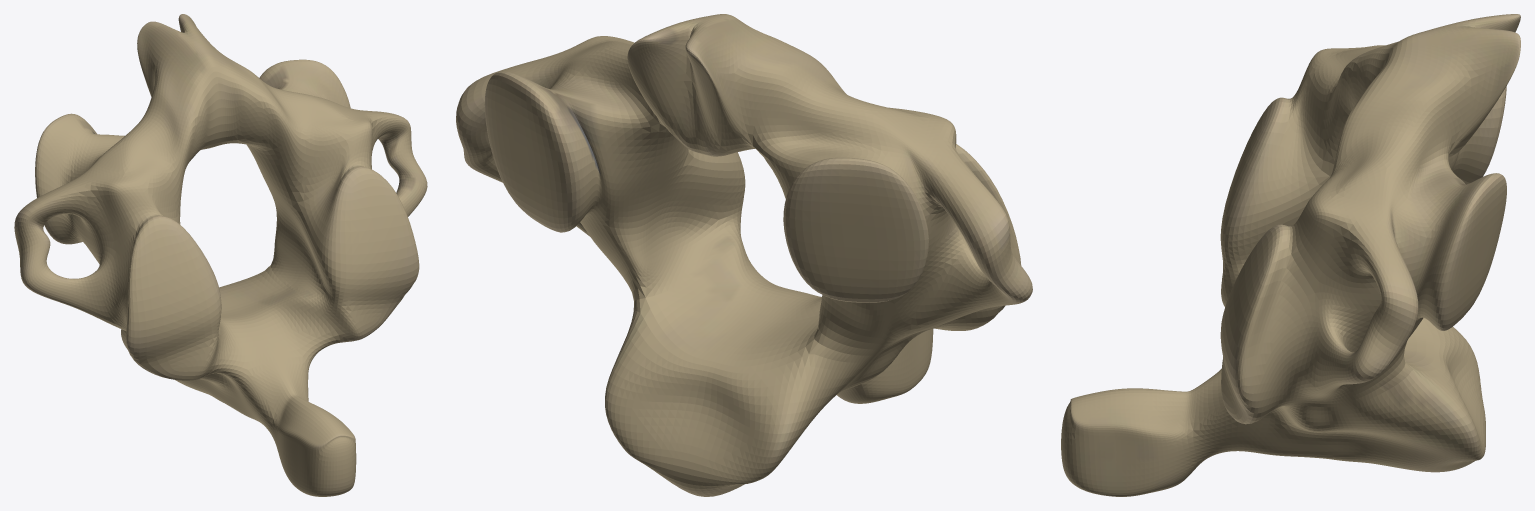
Rendered from 3DPX-001315.glb.
The picture shows the model from 3 angles, left to right: view 1: azimuth 30°, elevation 25°; view 2: azimuth 150°, elevation 25°; view 3: azimuth 270°, elevation 25°; orthographic projection. The views are drawn at different scales.
Visible parts, largest first — view 1: relative_path_2-pymesh; view 2: relative_path_2-pymesh; view 3: relative_path_2-pymesh.
Boxes of the visible parts, bbox=[...] form: relative_path_2-pymesh: bbox=[14, 14, 427, 496]; relative_path_2-pymesh: bbox=[456, 14, 1032, 496]; relative_path_2-pymesh: bbox=[1061, 14, 1520, 496].
Bounding box in the file's own units: 2.2 × 1.88 × 1.68.
